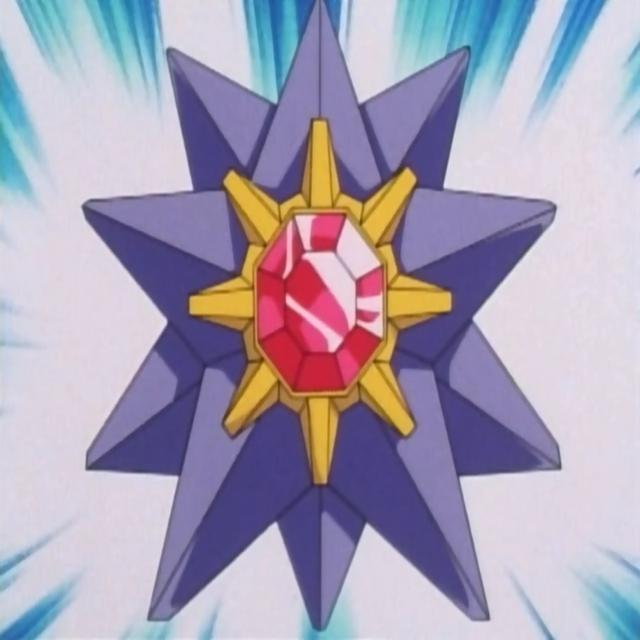Starmie: (146, 44, 488, 618)
